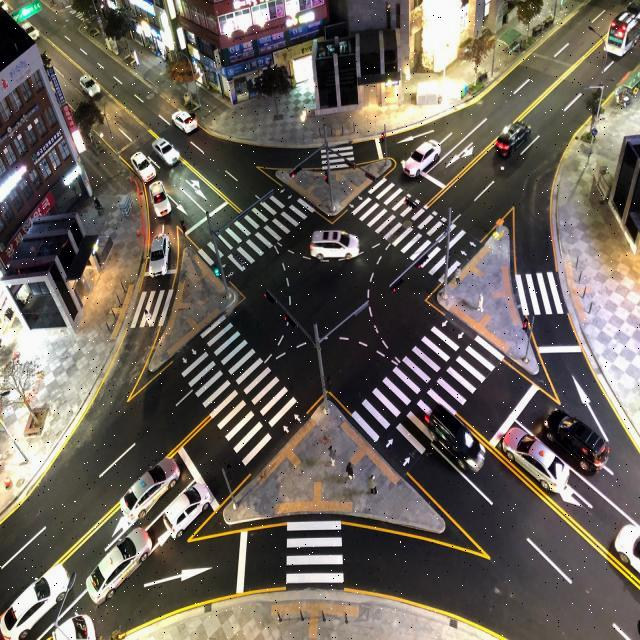crosswalk: (351, 313, 506, 475), (171, 314, 308, 471), (344, 175, 482, 285), (198, 183, 317, 284), (286, 518, 346, 590), (512, 270, 569, 316), (127, 288, 175, 327), (321, 141, 356, 172)
